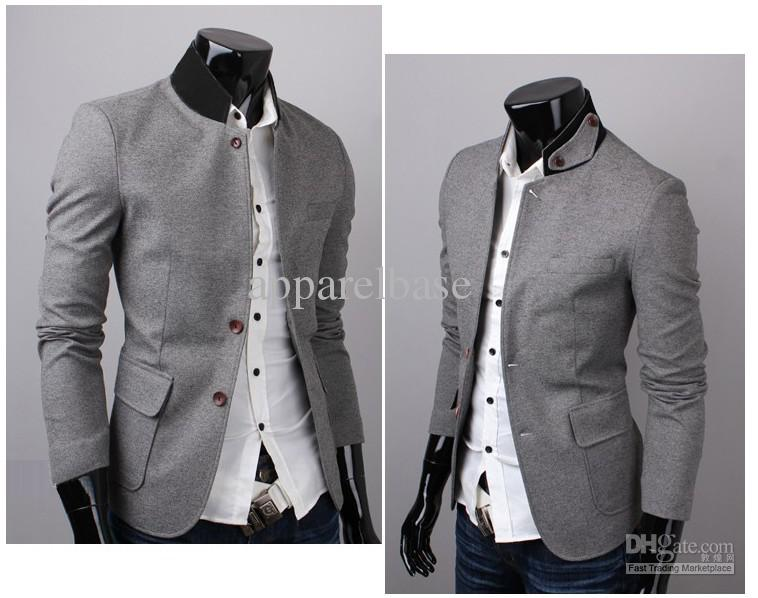F_M_suit jacket: (35, 75, 368, 536), (424, 129, 711, 563)
